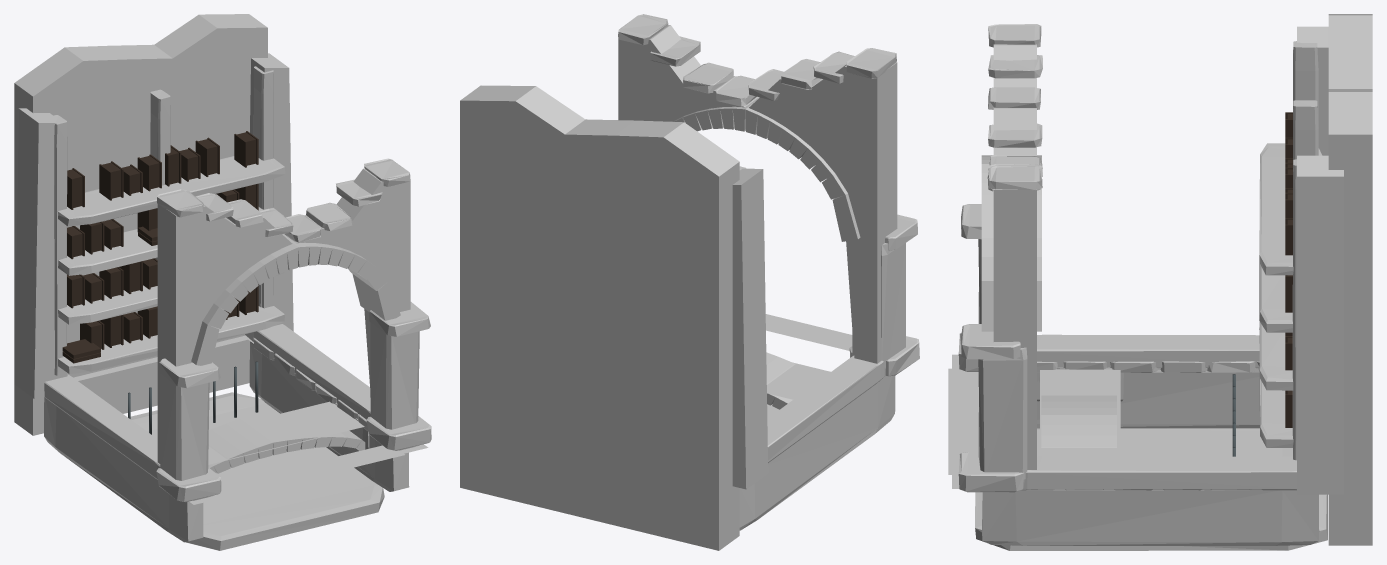
File: archive_bay.glb
3 views of the same model, side by side, from view 1: azimuth 30°, elevation 25°; view 2: azimuth 150°, elevation 25°; view 3: azimuth 270°, elevation 25° (orthographic). The views are drawn at different scales.
Visible parts, largest first — view 1: archive_bay__masonry, archive_bay__dressed_stone, archive_bay__oak, archive_bay__paving, archive_bay__iron; view 2: archive_bay__masonry, archive_bay__dressed_stone, archive_bay__paving; view 3: archive_bay__masonry, archive_bay__dressed_stone, archive_bay__paving, archive_bay__oak.
Part boxes in pixels (x1,y1,x2,y2): archive_bay__masonry: (14,14,419,550); archive_bay__dressed_stone: (50,66,431,502); archive_bay__oak: (62,131,258,363); archive_bay__paving: (73,335,428,504); archive_bay__iron: (128,361,258,434); archive_bay__masonry: (460,25,905,550); archive_bay__dressed_stone: (618,14,919,409); archive_bay__paving: (765,314,852,399); archive_bay__masonry: (975,14,1372,550); archive_bay__dressed_stone: (958,24,1322,492); archive_bay__paving: (948,354,1258,488); archive_bay__oak: (1285,112,1292,427).
Size of the model in its own units: 4.64 by 6.45 by 5.61.
